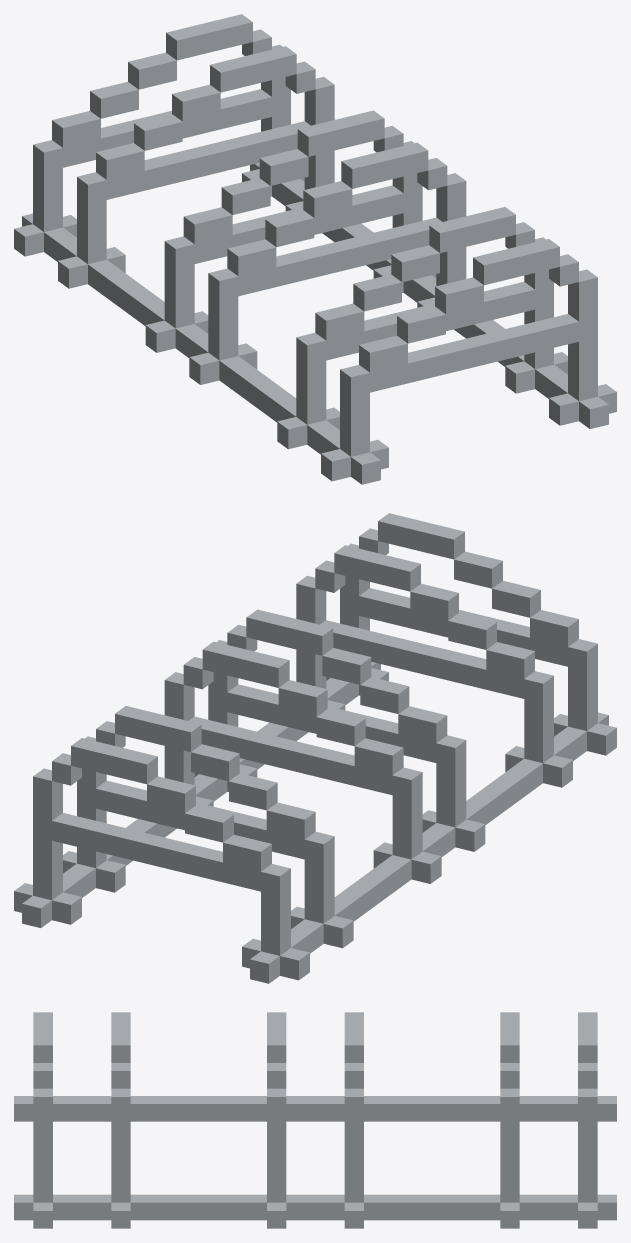
The model's file is 3D Voxel Park-76.obj.
3 views of the same model, one above another, from view 1: azimuth 30°, elevation 25°; view 2: azimuth 150°, elevation 25°; view 3: azimuth 270°, elevation 25° (orthographic). The views are drawn at different scales.
Size of the model in its own units: 1.5 by 0.9 by 3.1.
1 material, 1 textured.
